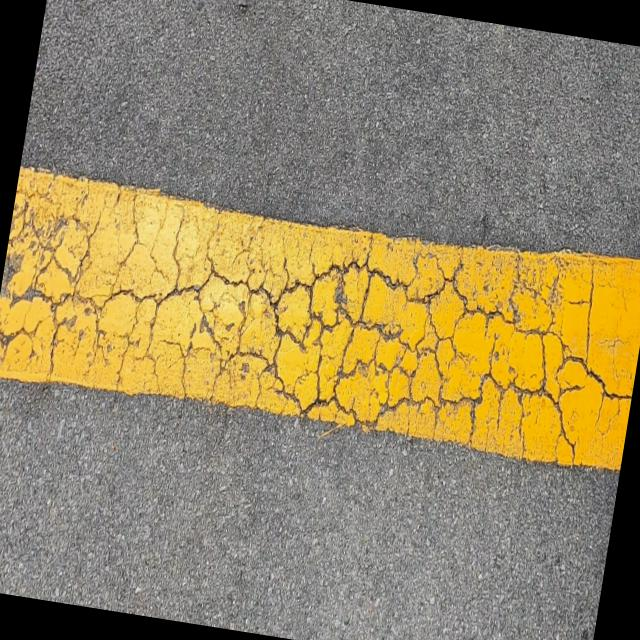Retak-Buaya: (0, 170, 628, 458)
